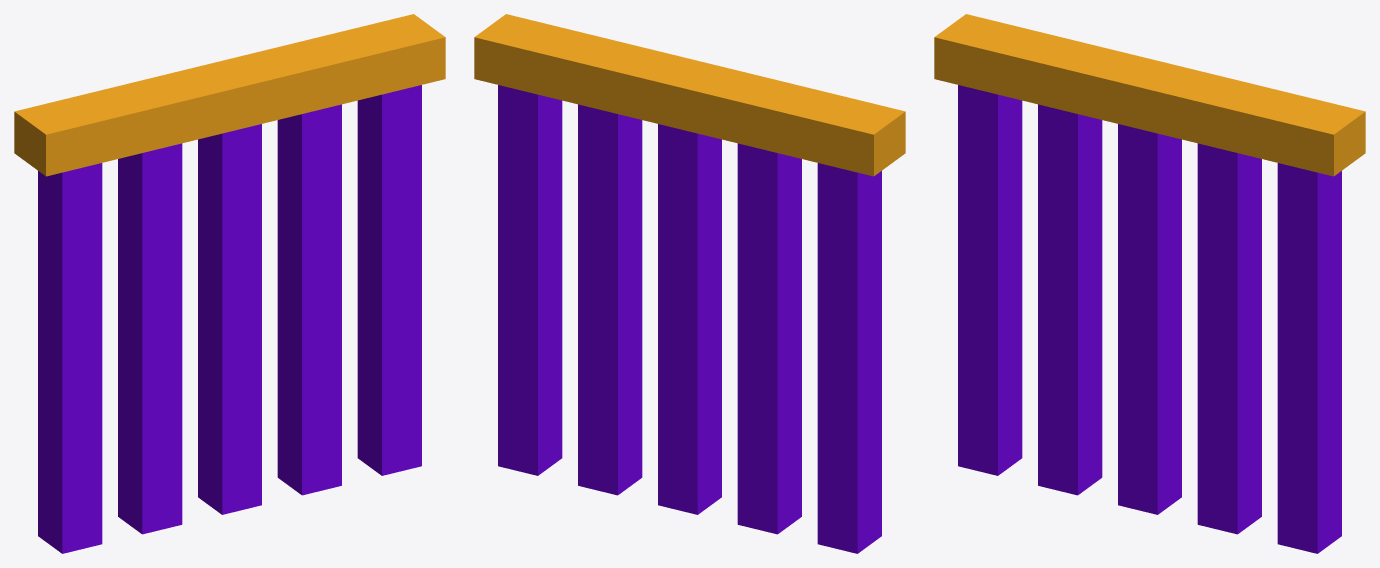
Rendered from Fence_01.fbx.
The picture shows the model from 3 angles, left to right: view 1: azimuth 30°, elevation 25°; view 2: azimuth 150°, elevation 25°; view 3: azimuth 330°, elevation 25°; orthographic projection.
Visible parts, largest first — view 1: Obstacle_Fence_01; view 2: Obstacle_Fence_01; view 3: Obstacle_Fence_01.
Boxes of the visible parts, left/top/right/bottom form: Obstacle_Fence_01: left=14, top=14, right=445, bottom=553; Obstacle_Fence_01: left=474, top=14, right=905, bottom=553; Obstacle_Fence_01: left=934, top=14, right=1365, bottom=553.
Size of the model in its own units: 100 by 102 by 13.78.
1 material, 1 textured.
